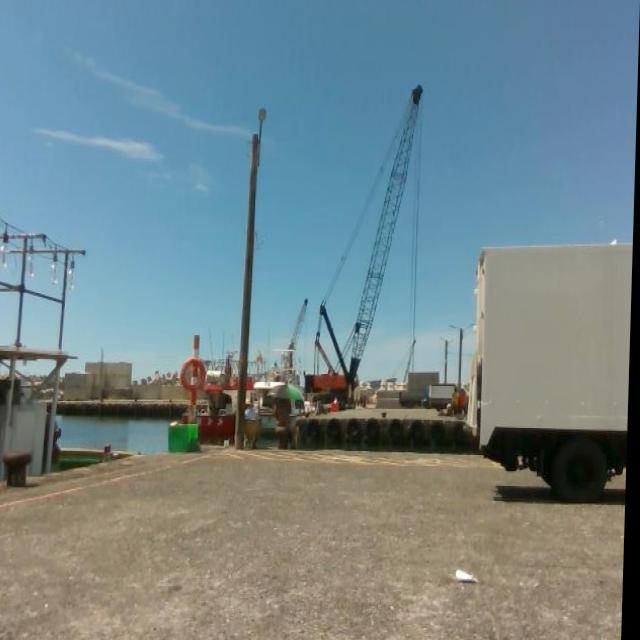pollute: (458, 567, 482, 583)
